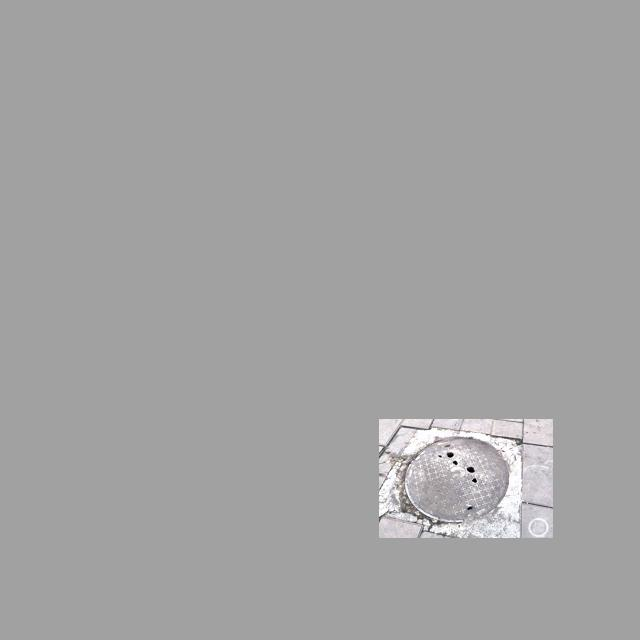circle: (383, 426, 526, 535)
